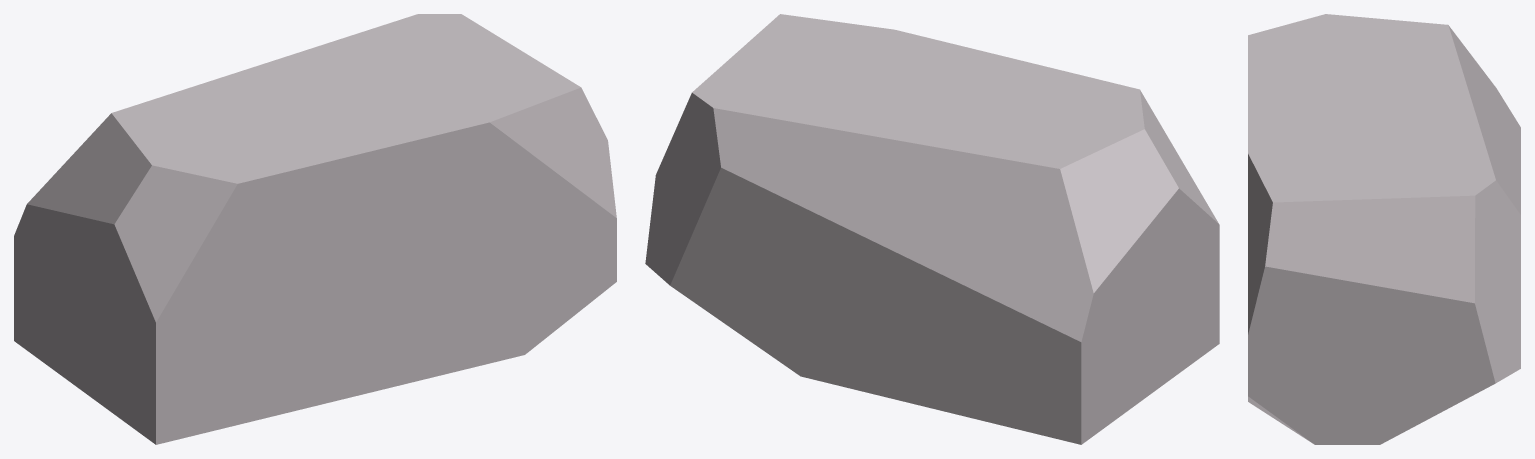
Rendered from Rock_Block_m_03.fbx.
The picture shows the model from 3 angles, left to right: view 1: azimuth 30°, elevation 25°; view 2: azimuth 150°, elevation 25°; view 3: azimuth 270°, elevation 25°; orthographic projection. The views are drawn at different scales.
Visible parts, largest first — view 1: Rock_Block_m_03; view 2: Rock_Block_m_03; view 3: Rock_Block_m_03.
Part boxes in pixels (<box>): Rock_Block_m_03: <box>14,14,616,444</box>; Rock_Block_m_03: <box>645,14,1219,444</box>; Rock_Block_m_03: <box>1248,14,1520,444</box>.
Bounding box in the file's own units: 120 × 60 × 64.
